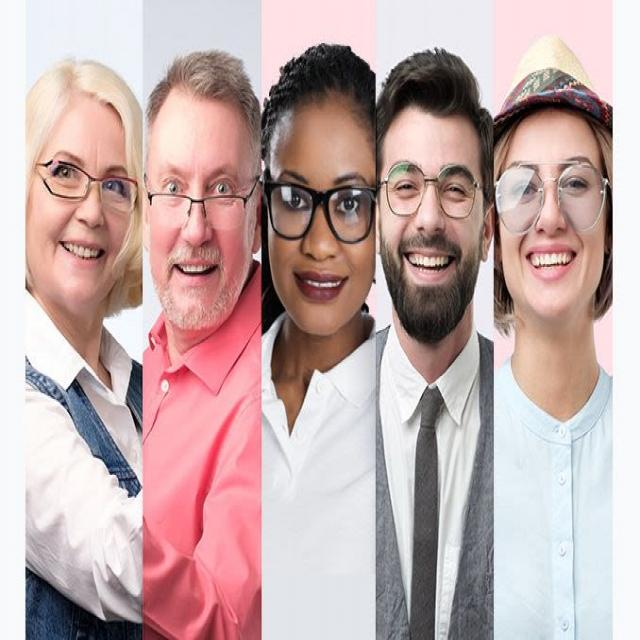Glasses: (494, 160, 613, 237), (262, 169, 376, 245), (143, 169, 259, 230), (380, 160, 485, 222), (35, 158, 140, 215)
